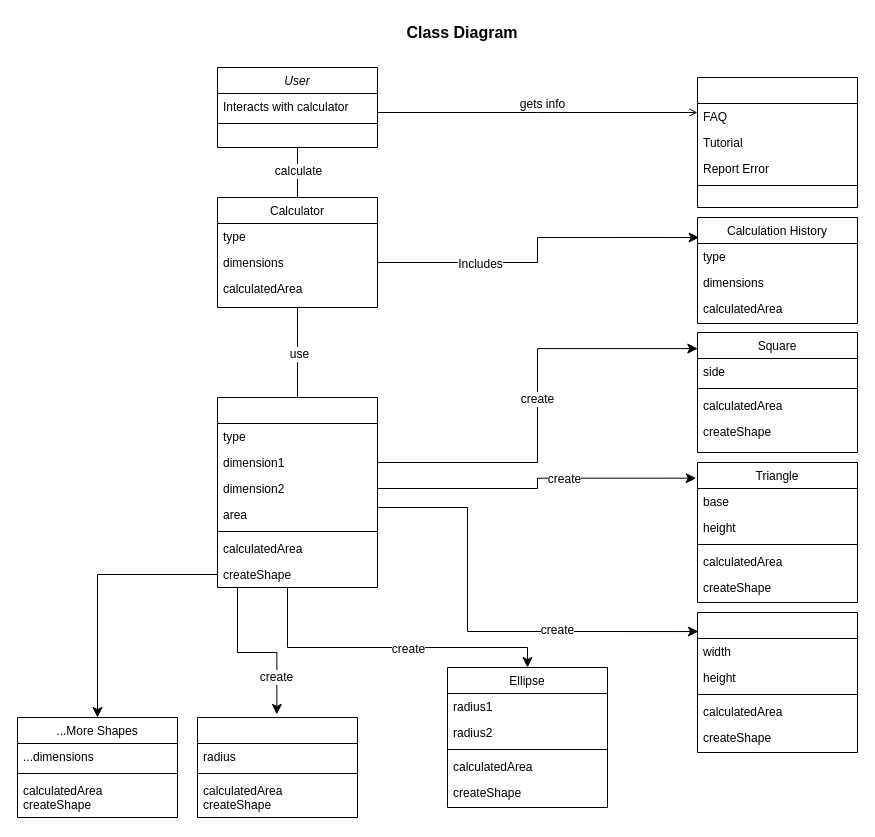
Image size: 875x837. Some labels were removed from this diagram. The shapes that lost their labels are listed below. From the top down, each one's box as (x1, y1, x2, y2) in pixels, then its label:
(696, 76, 858, 208): GetHelp
(216, 396, 378, 588): ShapeFactory
(696, 612, 858, 752): Rectangle
(196, 716, 358, 818): Circle
